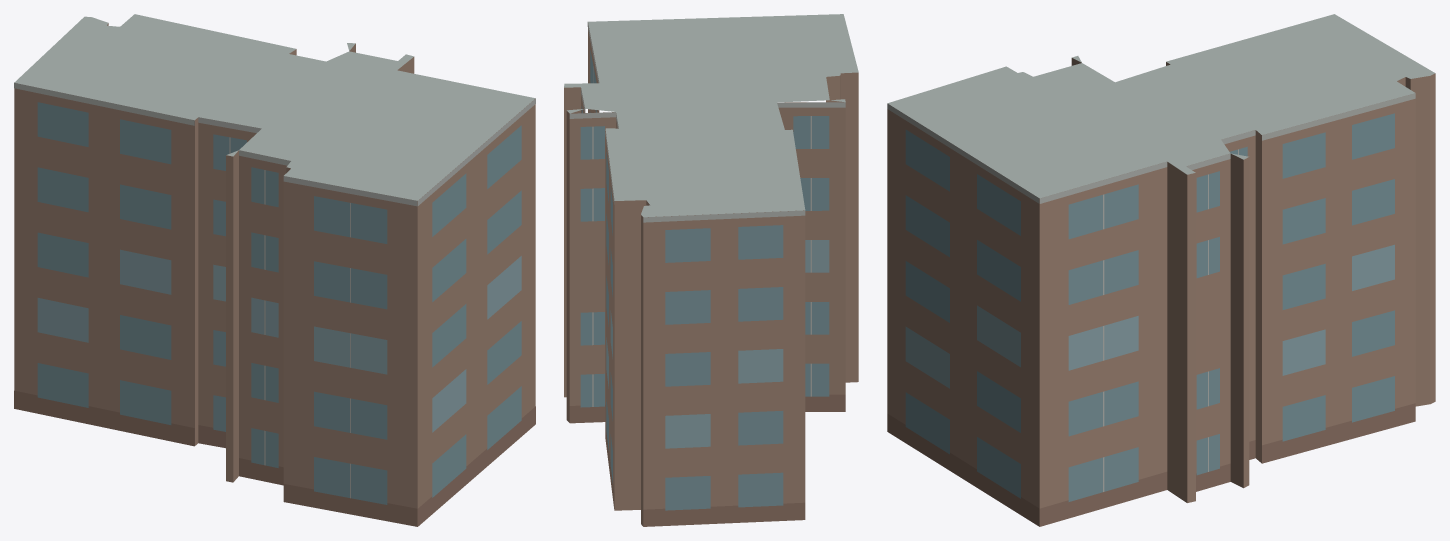
The model's file is survey-upis-32846950.glb.
3 views of the same model, side by side, from view 1: azimuth 30°, elevation 25°; view 2: azimuth 150°, elevation 25°; view 3: azimuth 270°, elevation 25° (orthographic). The views are drawn at different scales.
Parts seen in each view (by area): view 1: survey-upis-32846950.tmp; view 2: survey-upis-32846950.tmp; view 3: survey-upis-32846950.tmp.
Boxes of the visible parts, x1=… form: survey-upis-32846950.tmp: x1=14, y1=14, x2=535, y2=526; survey-upis-32846950.tmp: x1=564, y1=14, x2=858, y2=526; survey-upis-32846950.tmp: x1=887, y1=14, x2=1435, y2=526.
Size of the model in its own units: 17.23 by 14.3 by 21.64.
